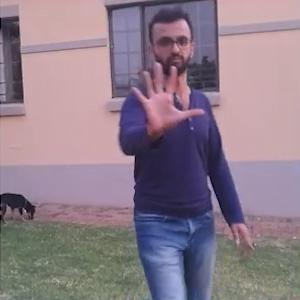follow_hand: (126, 55, 207, 138)
